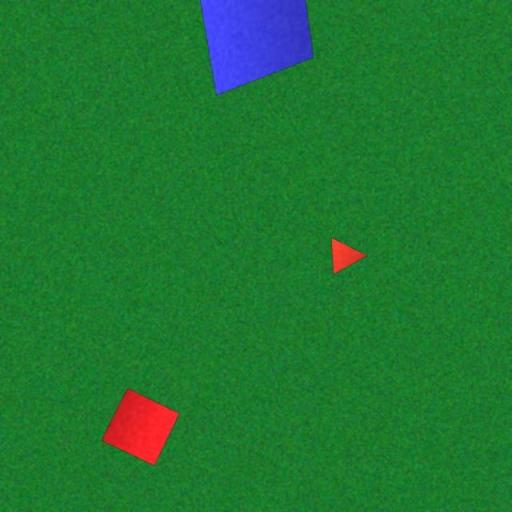BLUE_SQUARE: (198, 0, 314, 96)
RED_SQUARE: (101, 388, 180, 466)
